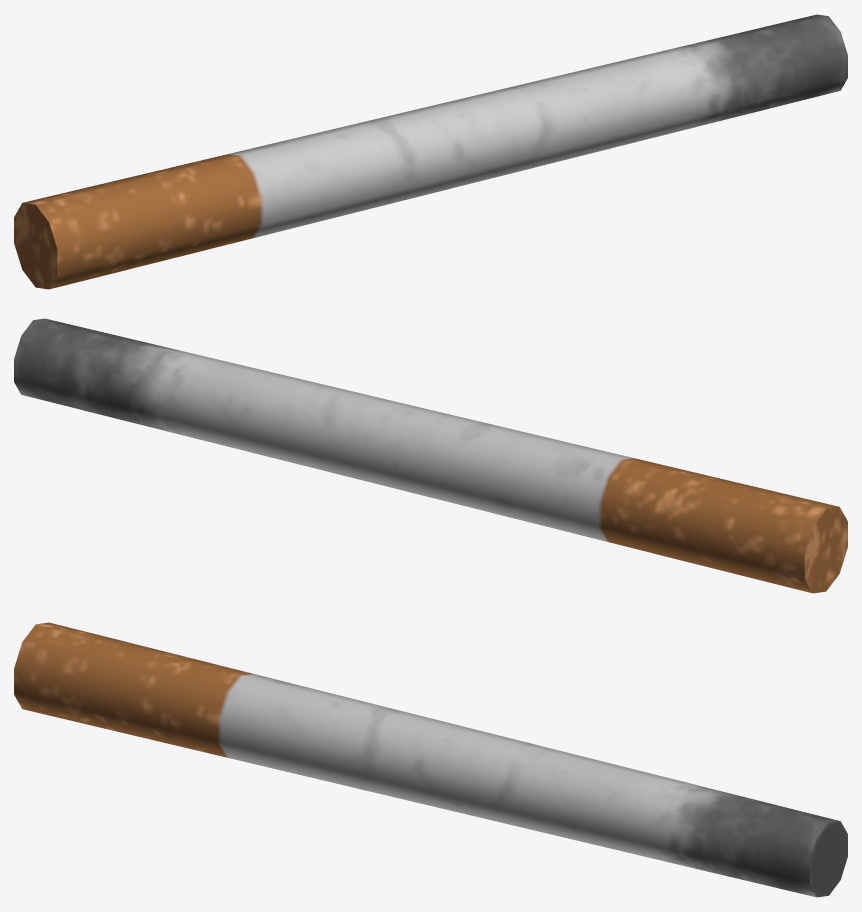
Rendered from SM_Cigarette_01.fbx.
The picture shows the model from 3 angles, top to bottom: view 1: azimuth 30°, elevation 25°; view 2: azimuth 150°, elevation 25°; view 3: azimuth 330°, elevation 25°; orthographic projection.
Parts seen in each view (by area): view 1: SM_Cigarette_01_LOD0; view 2: SM_Cigarette_01_LOD0; view 3: SM_Cigarette_01_LOD0.
Part boxes in pixels (x1,y1,x2,y2): SM_Cigarette_01_LOD0: (14, 14, 847, 289); SM_Cigarette_01_LOD0: (14, 318, 847, 593); SM_Cigarette_01_LOD0: (14, 622, 847, 897).
Bounding box in the file's own units: 7.77 × 0.7368 × 0.7747.
1 material, 1 textured.
